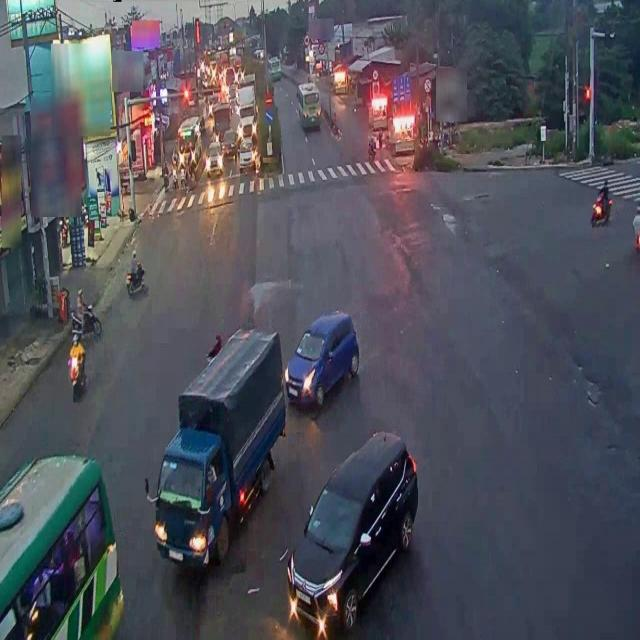bus: (0, 442, 124, 640)
car: (282, 426, 418, 639), (283, 308, 361, 415)
motorcycle: (70, 288, 102, 340), (67, 329, 87, 403), (127, 247, 145, 300)
truck: (146, 322, 282, 571)
